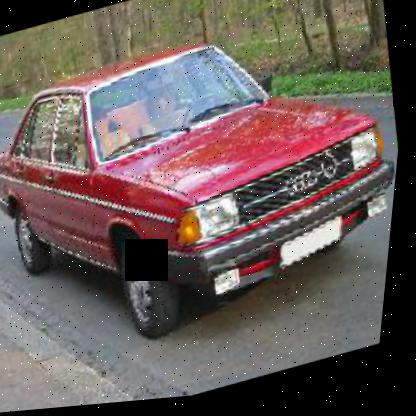not_emergency: (0, 0, 414, 385)
